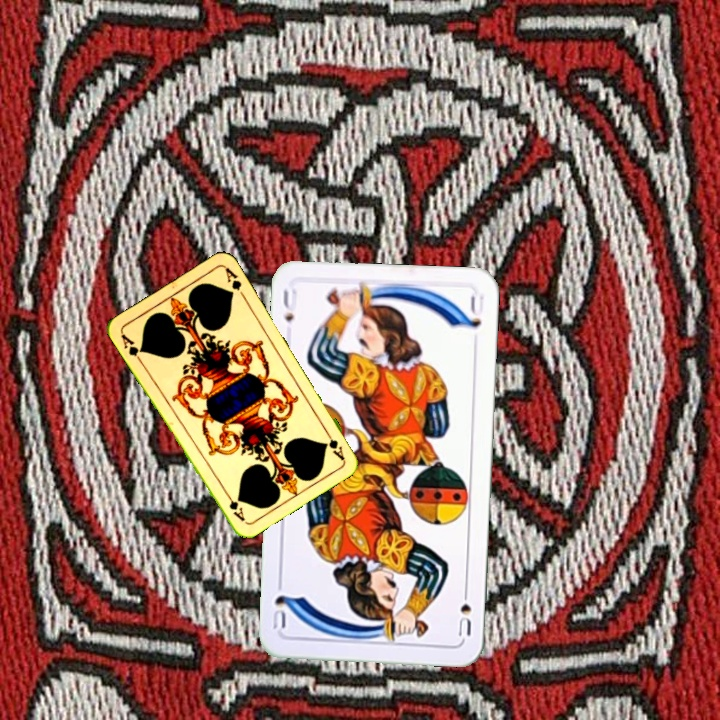GA: (320, 425, 347, 463), (117, 330, 145, 366)
SU: (454, 582, 474, 639), (278, 285, 300, 325)
